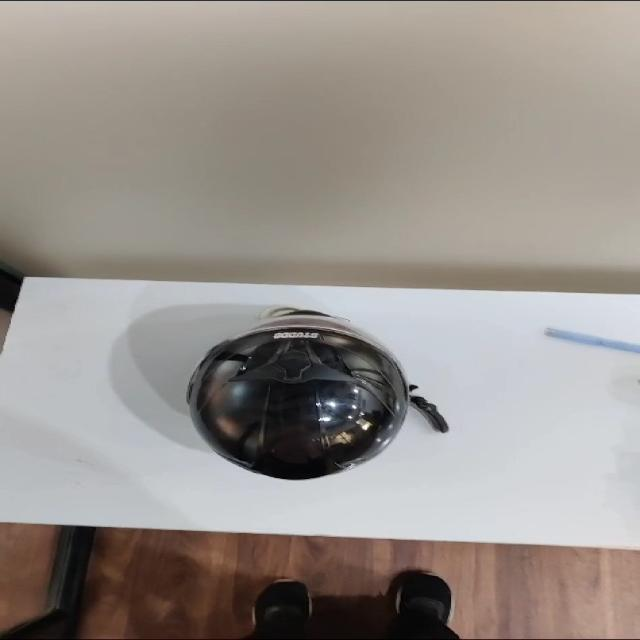helmet: (188, 306, 447, 478)
